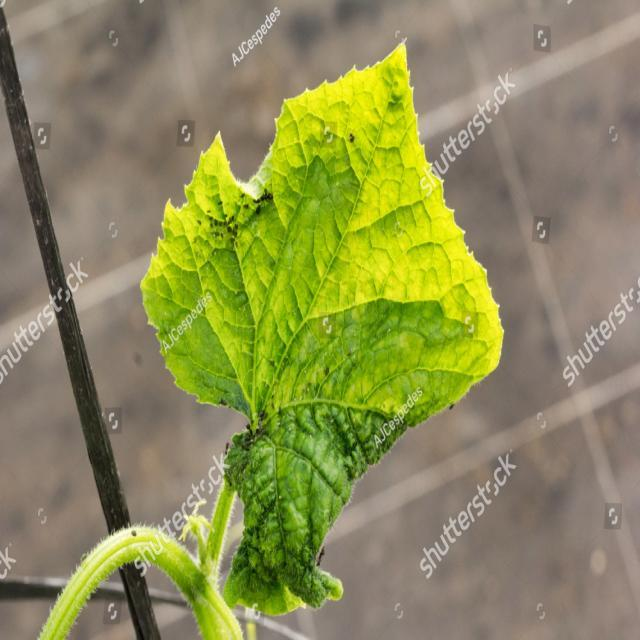Aphids: (226, 429, 305, 605), (197, 174, 274, 268), (319, 410, 379, 468)
